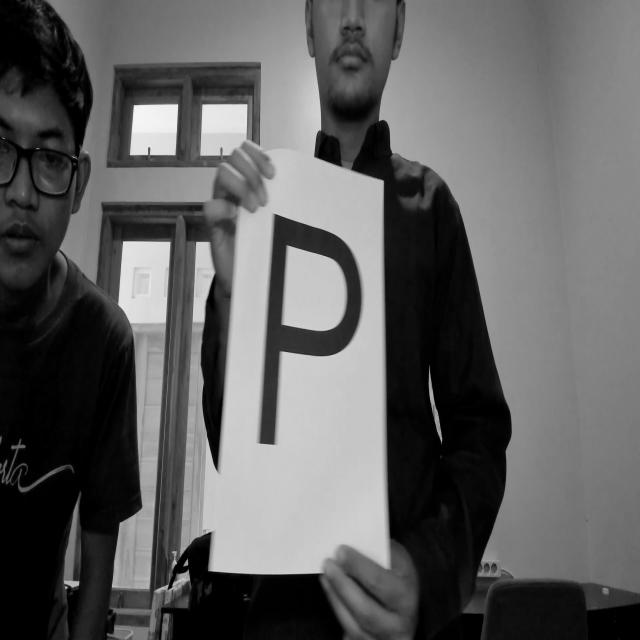p: (244, 200, 368, 458)
